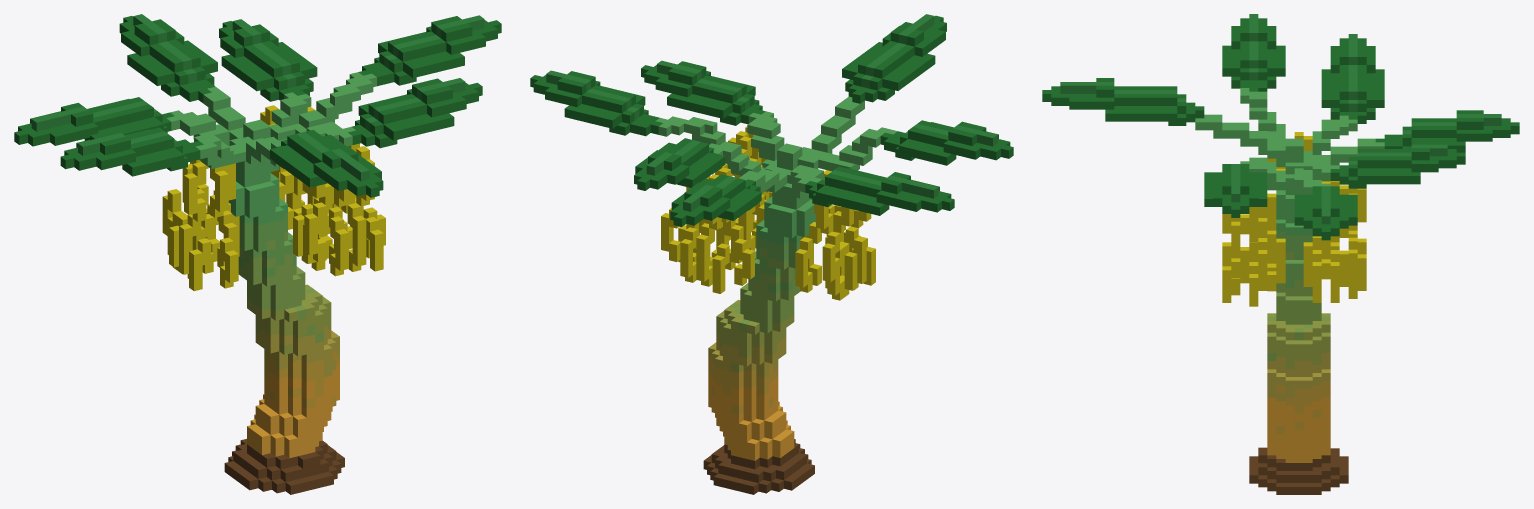
Rendered from 2_1 bana.obj.
3 renders of one model, left to right at view 1: azimuth 30°, elevation 25°; view 2: azimuth 150°, elevation 25°; view 3: azimuth 270°, elevation 25°, orthographic. The views are drawn at different scales.
Bounding box in the file's own units: 5.5 × 4.5 × 5.3.
Materials: 1 (1 with a texture image).
